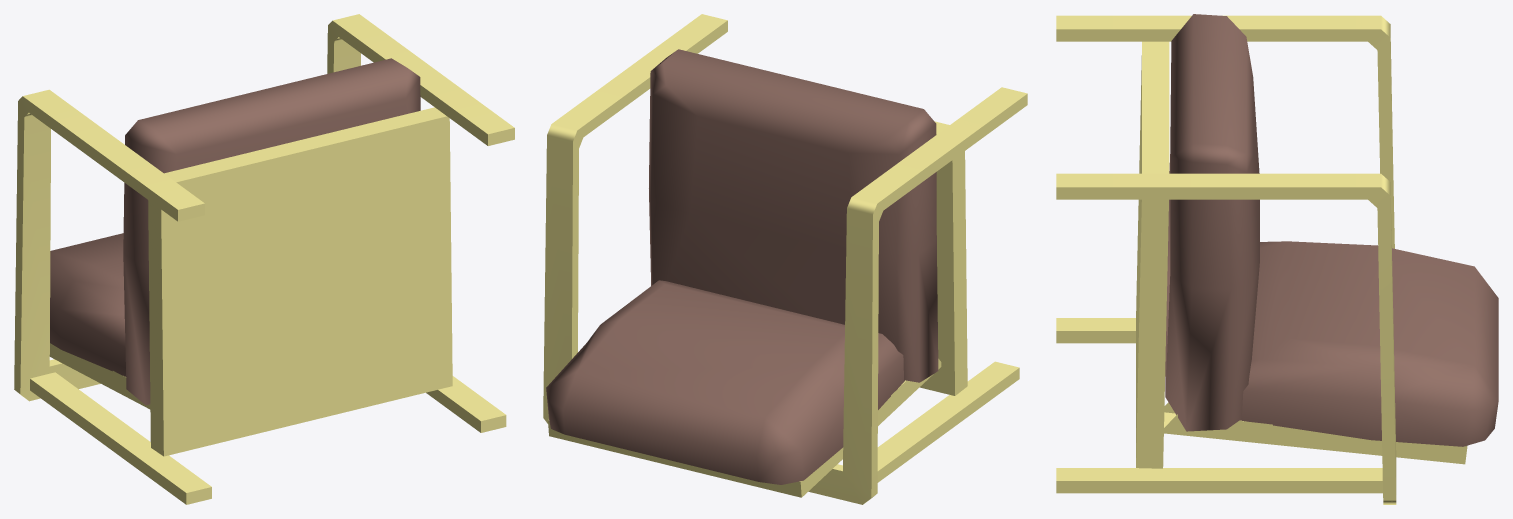
The model's file is beanbag.glb.
The picture shows the model from 3 angles, left to right: view 1: azimuth 30°, elevation 25°; view 2: azimuth 150°, elevation 25°; view 3: azimuth 270°, elevation 25°; orthographic projection. The views are drawn at different scales.
Parts seen in each view (by area): view 1: lounge_chair_016; view 2: lounge_chair_016; view 3: lounge_chair_016.
Boxes of the visible parts, x1,y1,x2,y2 form: lounge_chair_016: (14,14,514,504); lounge_chair_016: (543,14,1027,504); lounge_chair_016: (1056,14,1498,504).
Size of the model in its own units: 0.7202 by 0.669 by 0.7791.
Materials: 1 (1 with a texture image).
